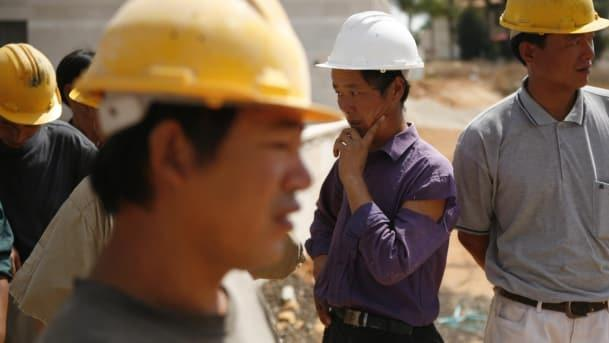helmet: (68, 1, 343, 129), (314, 11, 429, 75), (0, 41, 63, 128), (497, 0, 609, 41)
no_wear: (459, 94, 609, 302), (320, 142, 453, 320)
